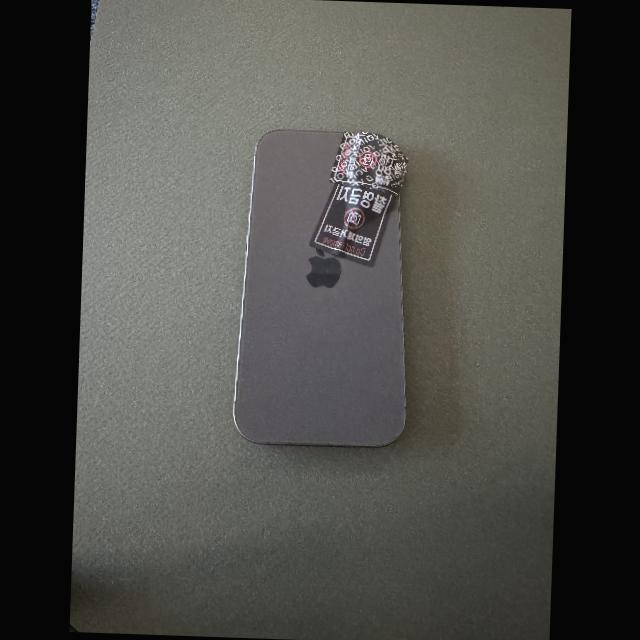phone: (232, 128, 406, 447)
sticker: (308, 182, 395, 267), (328, 130, 410, 197)
